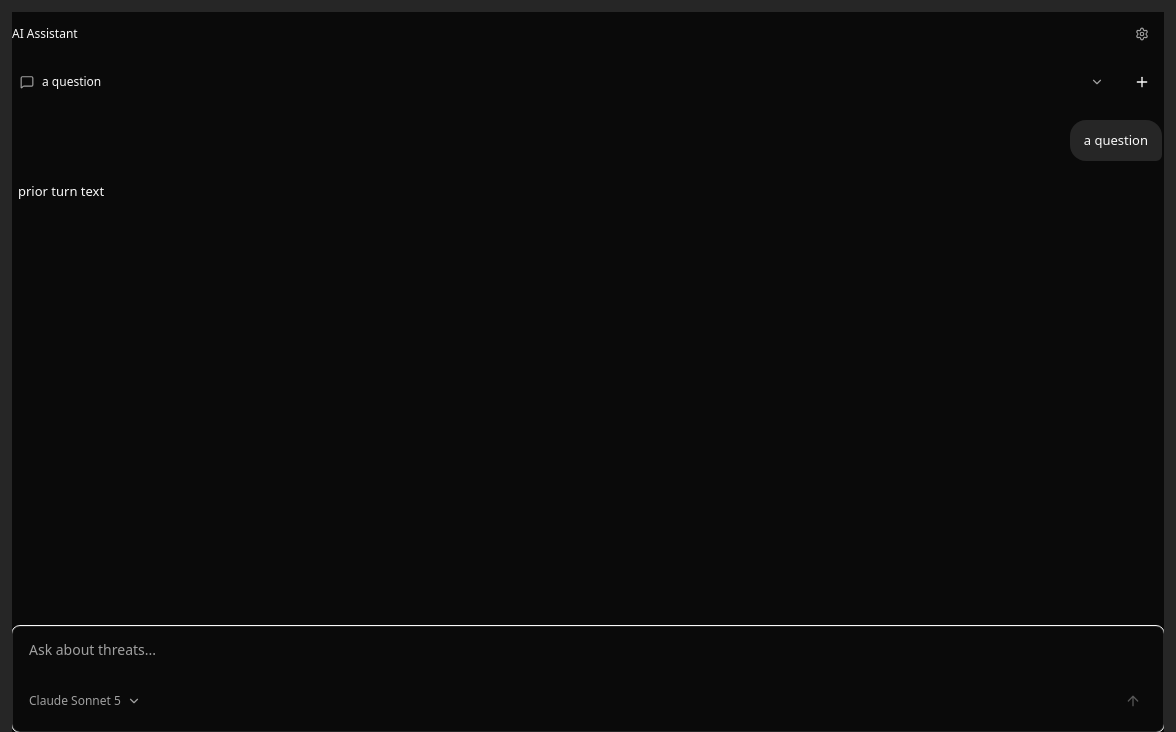
Scenario: AiChatTab conversation isolation › clears a settled turn when a new chat session starts
Check: the text "prior turn text" is shown, box x1=18 y1=182 x2=104 y2=200
Click the button titled "New chat session". click: click(1142, 82)
box: x1=1120 y1=60 x2=1164 y2=104
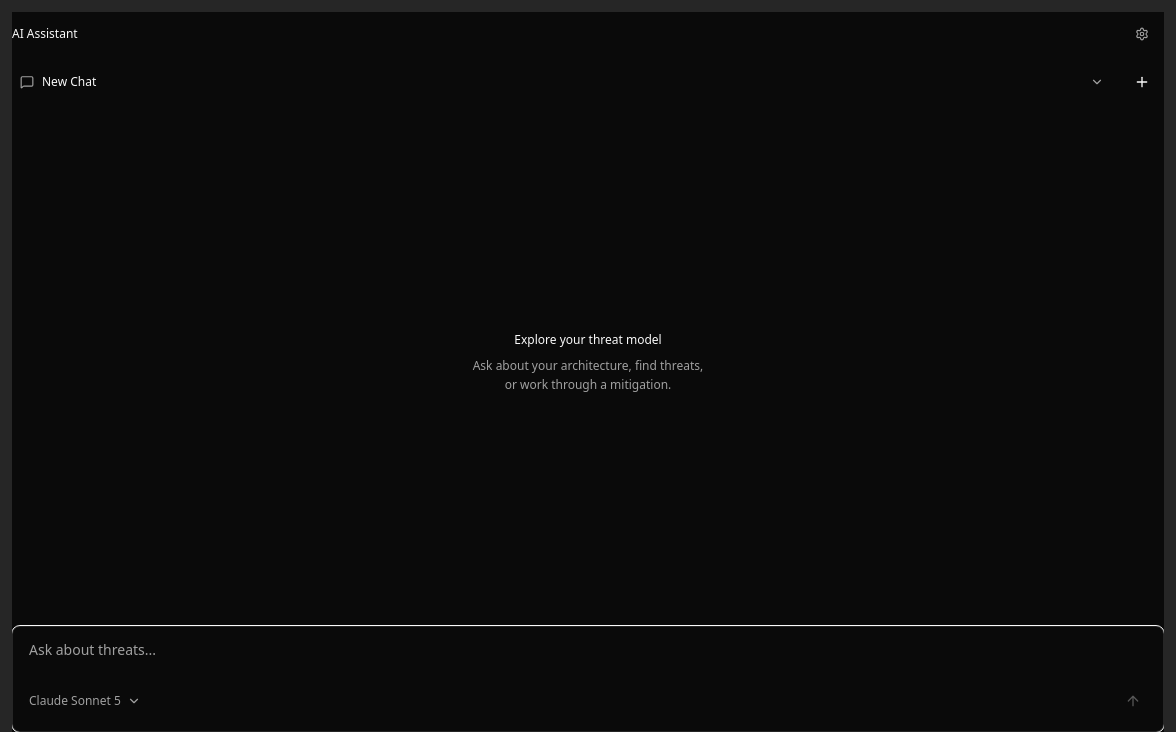
Check: the text "prior turn text" is gone
